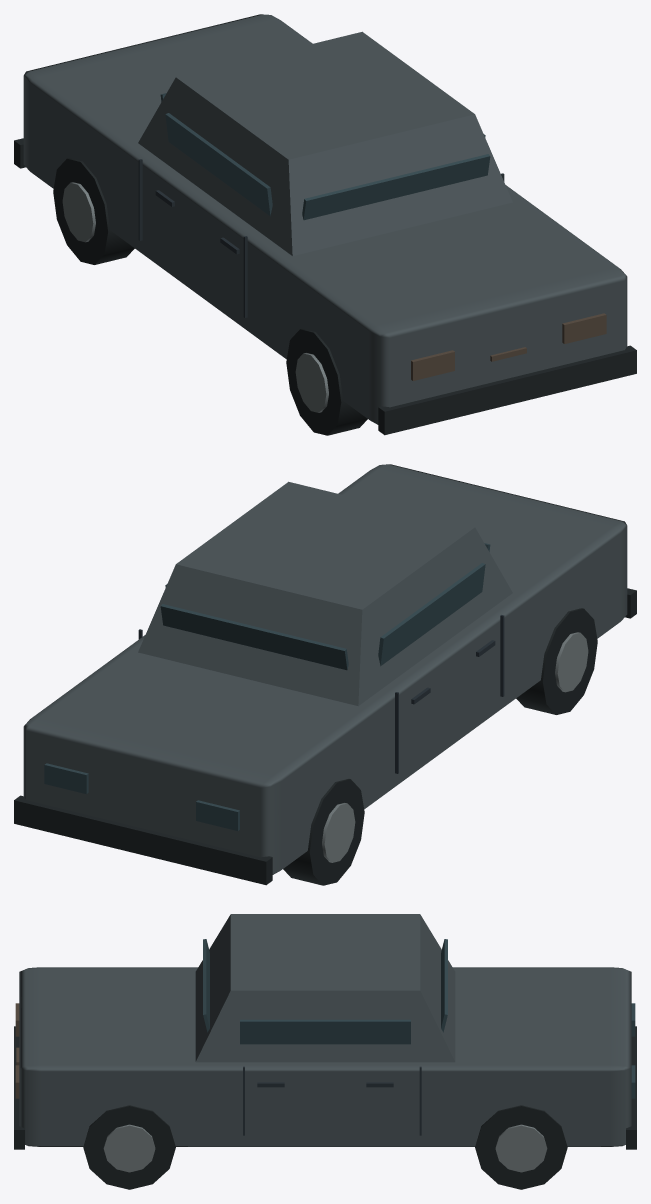
Rendered from sedan-1.glb.
3 renders of one model, top to bottom at view 1: azimuth 30°, elevation 25°; view 2: azimuth 150°, elevation 25°; view 3: azimuth 270°, elevation 25°, orthographic. The views are drawn at different scales.
Parts seen in each view (by area): view 1: sedan/0/KR-230-1; view 2: sedan/0/KR-230-1; view 3: sedan/0/KR-230-1.
Part boxes in pixels (x1,y1,x2,y2): sedan/0/KR-230-1: (14, 14, 636, 435); sedan/0/KR-230-1: (14, 464, 636, 885); sedan/0/KR-230-1: (14, 914, 636, 1189).
Size of the model in its own units: 1.87 by 1.5 by 4.58.
